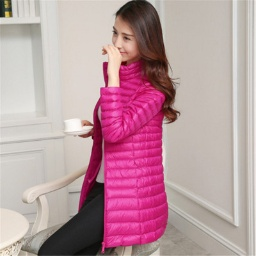face: (107, 1, 165, 66)
